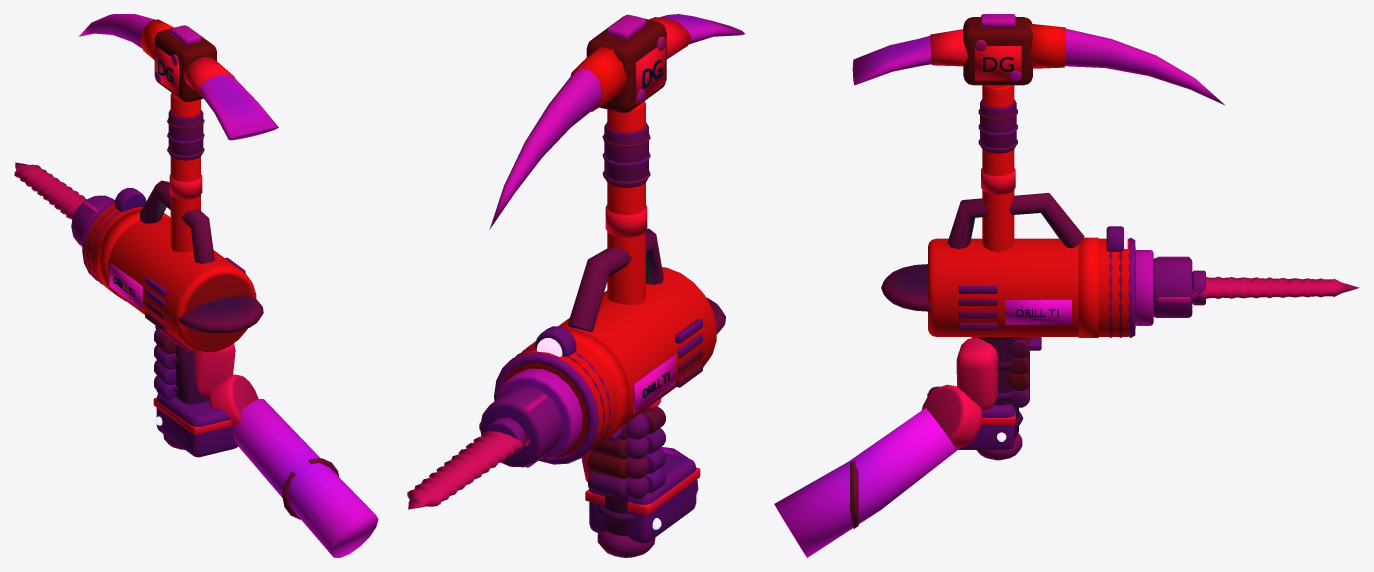
Rendered from tools.glb.
The picture shows the model from 3 angles, left to right: view 1: azimuth 30°, elevation 25°; view 2: azimuth 150°, elevation 25°; view 3: azimuth 270°, elevation 25°; orthographic projection. The views are drawn at different scales.
Parts seen in each view (by area): view 1: Drill, Glove, Pickaxe, Drill_Bit; view 2: Drill, Pickaxe, Glove, Drill_Bit; view 3: Drill, Pickaxe, Glove, Drill_Bit.
Part boxes in pixels (<box>): Drill: <box>71,180,263,457</box>; Glove: <box>154,327,378,557</box>; Pickaxe: <box>79,14,278,449</box>; Drill_Bit: <box>14,162,86,219</box>; Drill: <box>479,228,725,543</box>; Pickaxe: <box>489,14,744,557</box>; Glove: <box>581,398,698,499</box>; Drill_Bit: <box>407,417,530,509</box>; Drill: <box>881,193,1192,449</box>; Pickaxe: <box>852,14,1225,460</box>; Glove: <box>774,337,1029,557</box>; Drill_Bit: <box>1192,270,1359,305</box>.
Size of the model in its own units: 0.255 by 0.8274 by 0.8747.
